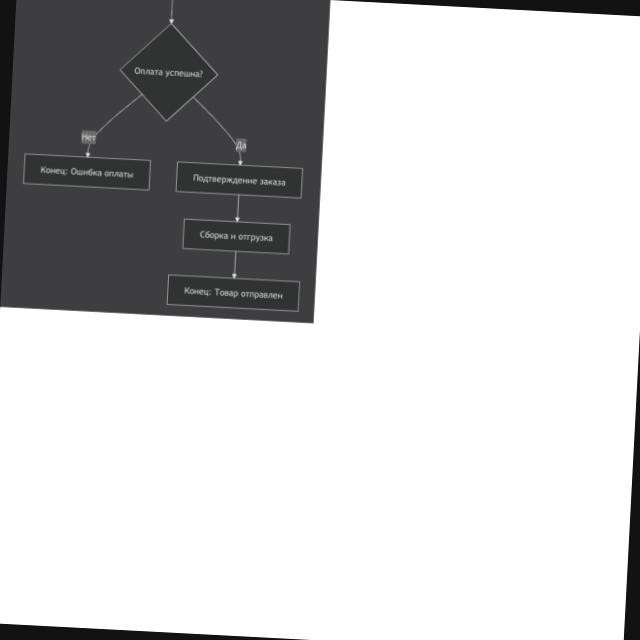arrow: (189, 98, 246, 166), (86, 91, 141, 159), (167, 0, 178, 24), (233, 196, 241, 223), (232, 252, 238, 278)
diamond: (122, 25, 217, 120)
rectangle: (168, 275, 300, 312), (24, 154, 150, 190), (177, 162, 302, 198), (183, 219, 290, 254)
